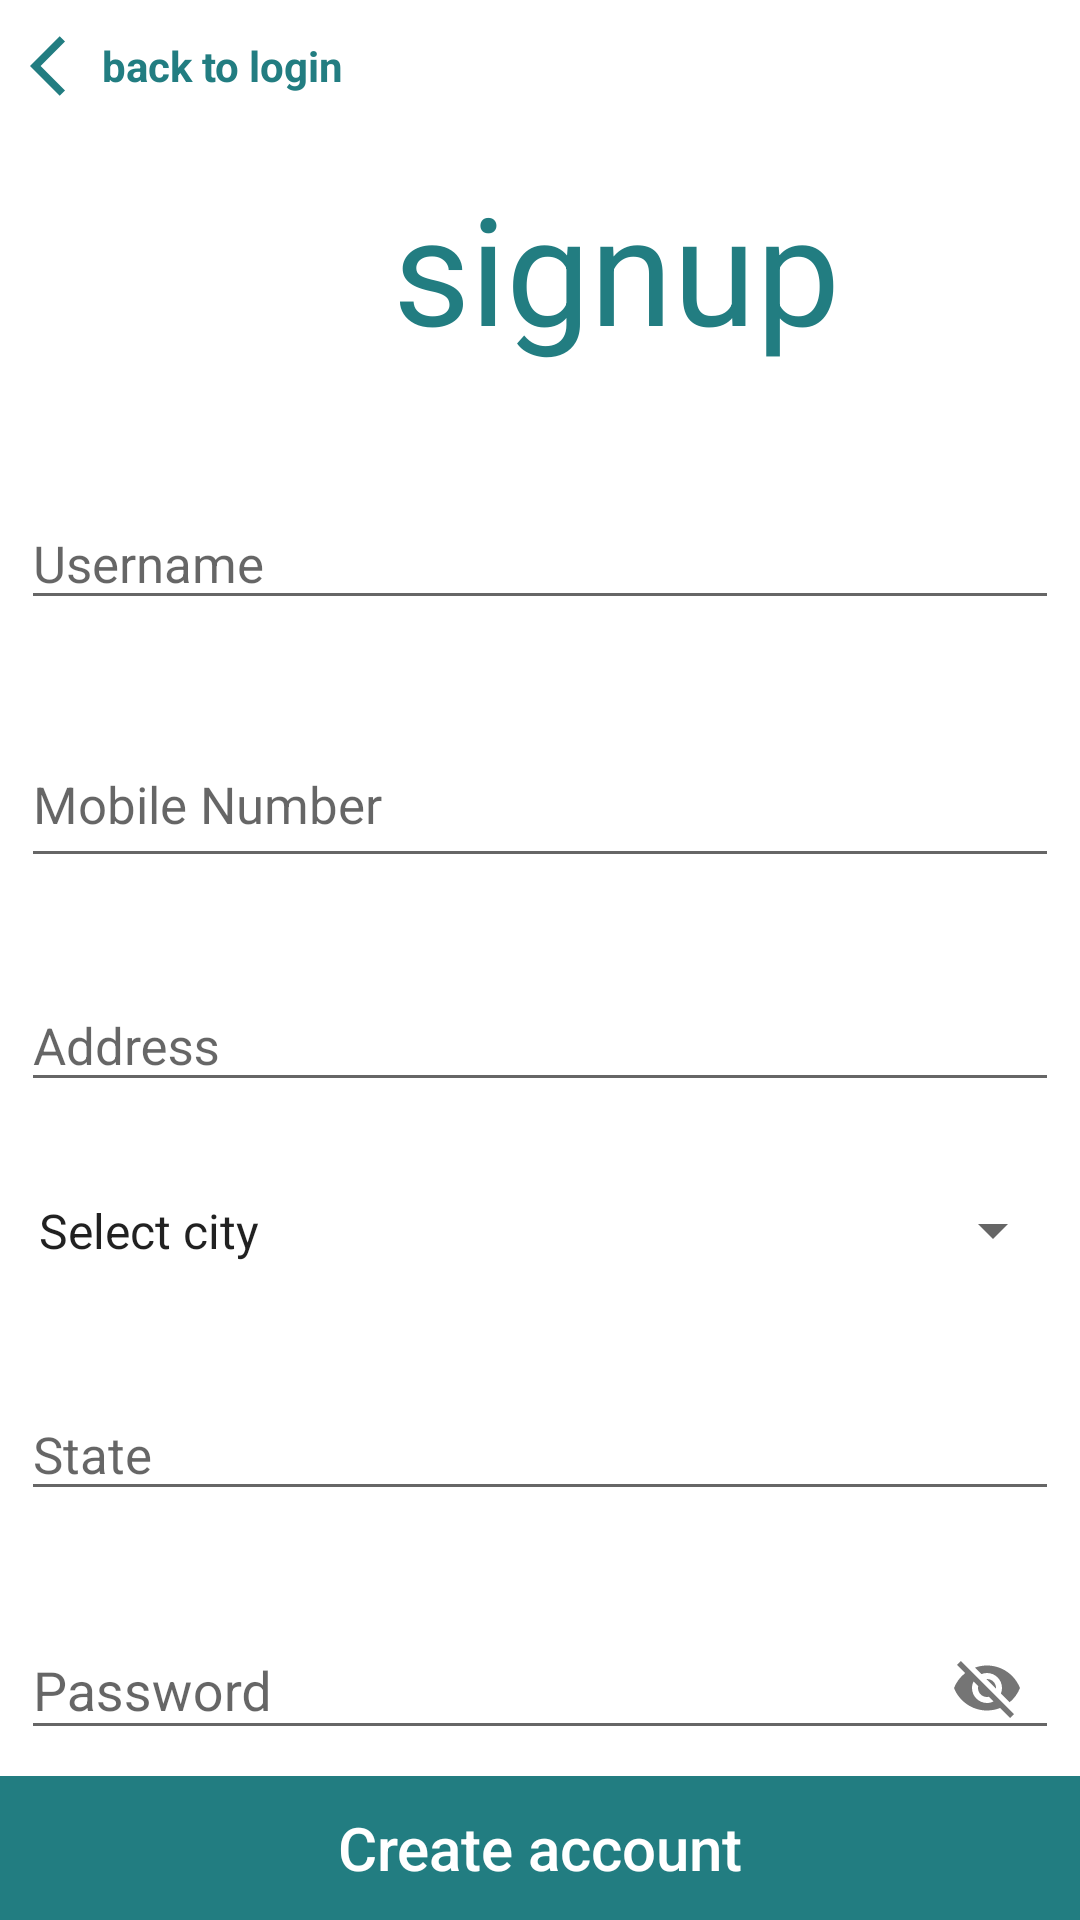

Icon bounding boxes for this 1080w x 1920h phone screenshot, format (x1, y1, x2, y2):
arrow back: (30, 36, 65, 96)
